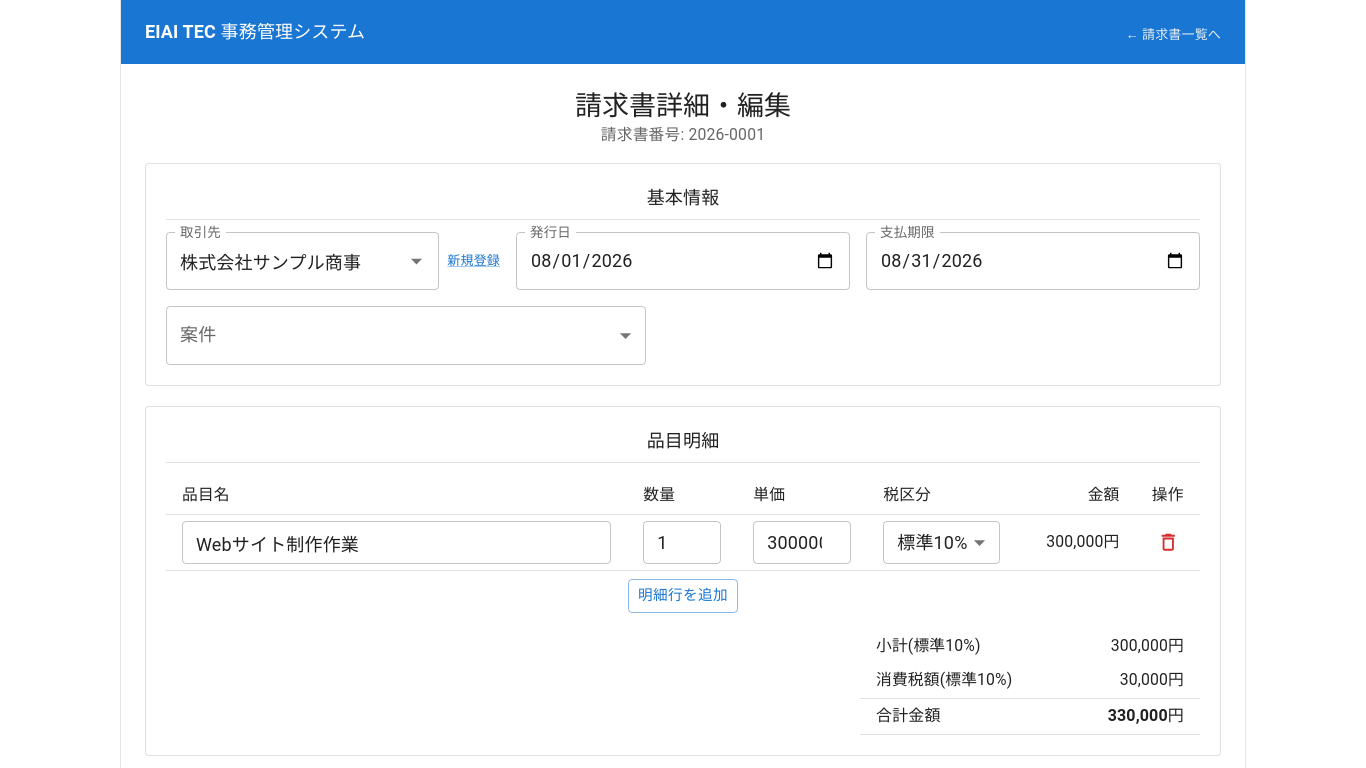
Test: InvoiceDetailPage › 品目明細を全て削除すると保存ボタンが無効化される
The width and height of the screenshot is (1366, 768).
Expected: the field showing "Webサイト制作作業" is shown, x1=182 y1=521 x2=611 y2=564
Click the button named "削除". click: {"x": 1168, "y": 543}
box: x1=1152 y1=526 x2=1184 y2=559
(page scrolled)
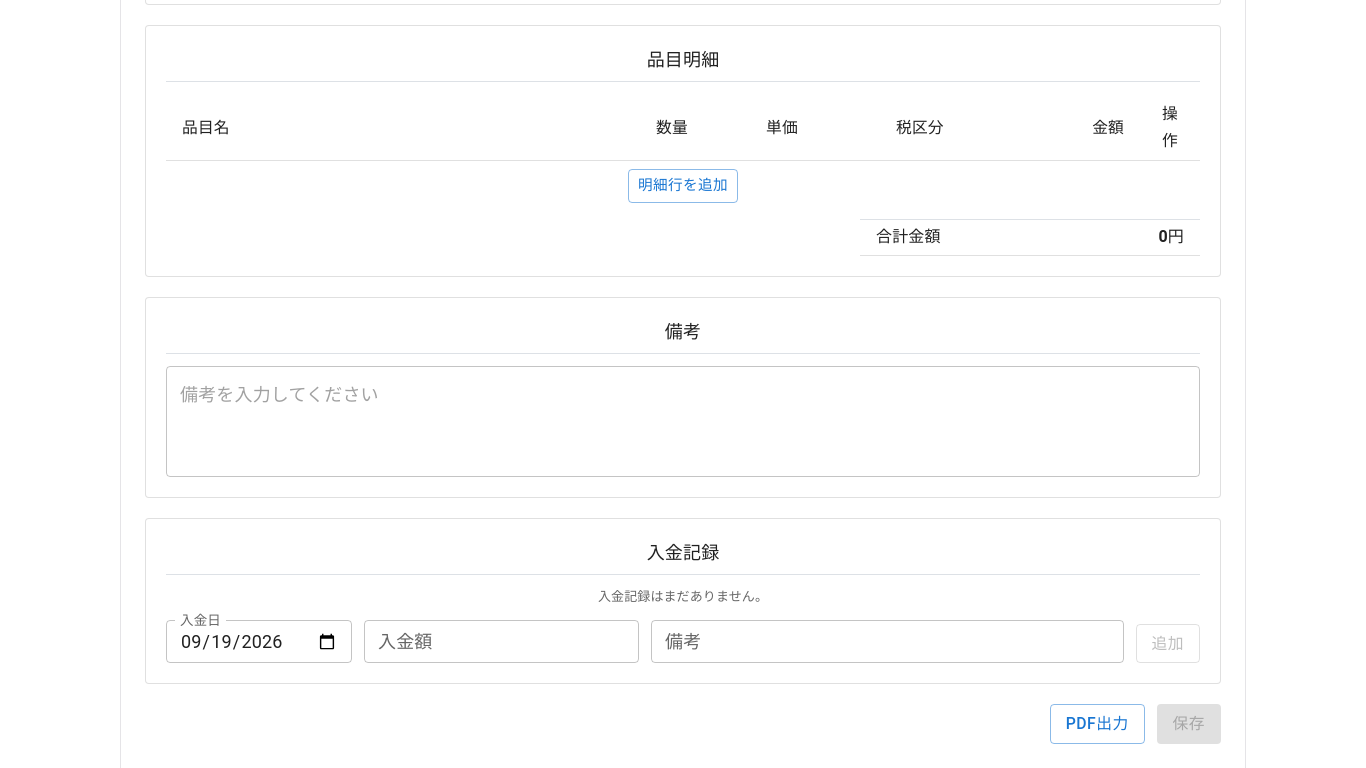
Result: the button "保存" is disabled at x1=1157 y1=704 x2=1221 y2=744
